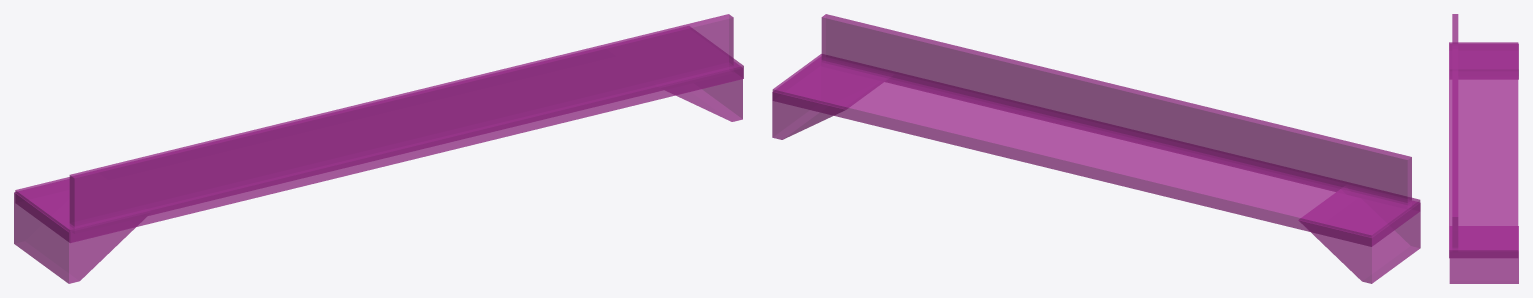
File: SM_Bld_Walkway_01_Collision.fbx
3 renders of one model, left to right at view 1: azimuth 30°, elevation 25°; view 2: azimuth 150°, elevation 25°; view 3: azimuth 270°, elevation 25°, orthographic. The views are drawn at different scales.
Parts seen in each view (by area): view 1: SM_Bld_Walkway_01_Collision; view 2: SM_Bld_Walkway_01_Collision; view 3: SM_Bld_Walkway_01_Collision.
Part boxes in pixels (<box>): SM_Bld_Walkway_01_Collision: <box>14,14,743,283</box>; SM_Bld_Walkway_01_Collision: <box>772,14,1420,283</box>; SM_Bld_Walkway_01_Collision: <box>1449,14,1518,283</box>.
Size of the model in its own units: 1056 by 153 by 150.
